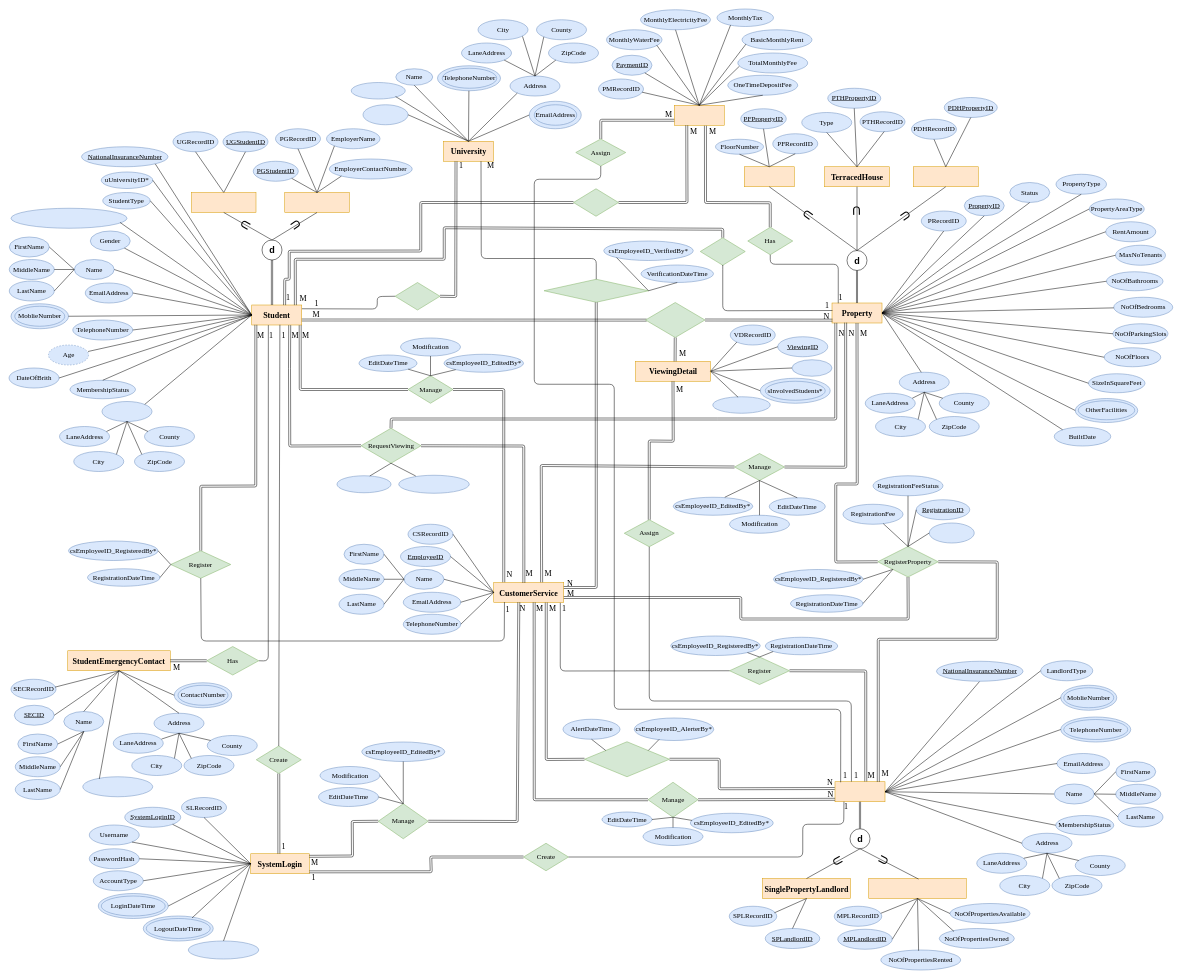
Some shapes in this 1182 by 979 pixel diagram are drawn without their labels. The centre of each missing label's shape, as x and y in pixels:
AlertViewingRequest: (627,759)
CreationDateTime: (223,949)
CurrentAddress: (127,411)
Date: (812,367)
DetachedHouse: (945,176)
Enrolled: (417,296)
EstimatedProgramCompletionDate: (68,218)
Flat: (769,176)
Landlord: (859,791)
lAssignedBy*: (741,404)
MultiplePropertyLandlord: (917,888)
Pay: (595,202)
Payment: (699,115)
Postgraduate: (316,202)
RelationshipToStudent: (117,786)
Rent: (722,251)
RequestedDateTime: (433,484)
RPRecordID: (951,532)
sRequestedBy*: (363,484)
Undergraduate: (223,202)
UniversityID: (378,90)
URecordID: (385,114)
VerifySudentEnrollment: (596,290)
ViewingProperty: (675,320)
